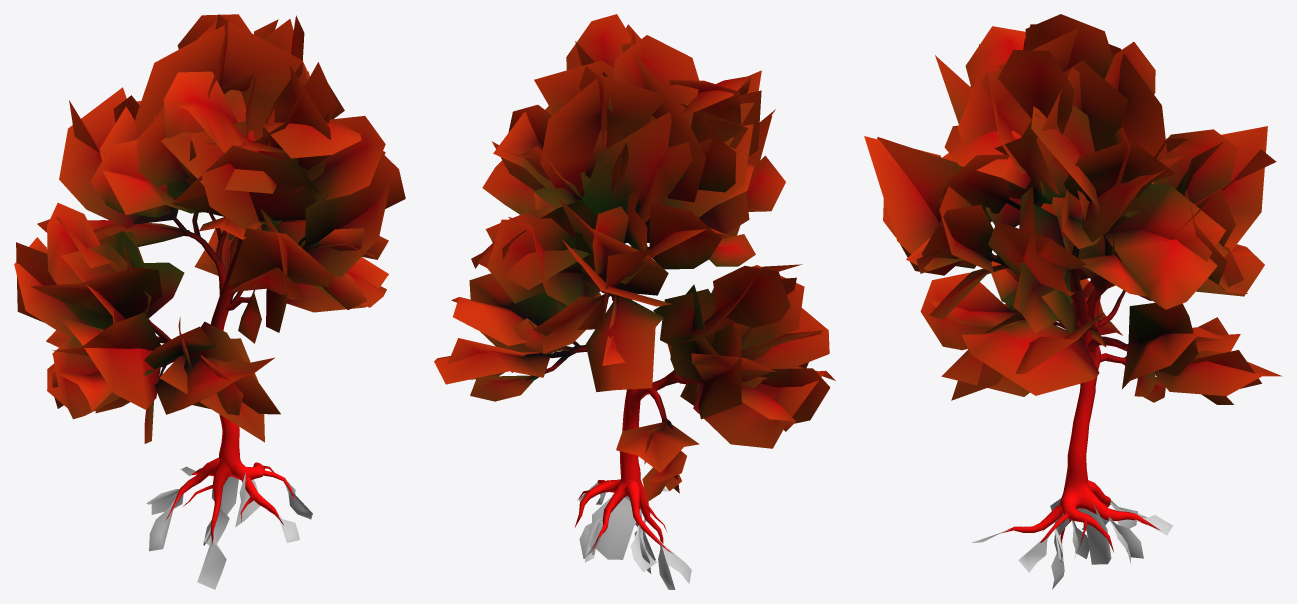
The model's file is ShrubTree_B.fbx.
3 views of the same model, side by side, from view 1: azimuth 30°, elevation 25°; view 2: azimuth 150°, elevation 25°; view 3: azimuth 270°, elevation 25° (orthographic). The views are drawn at different scales.
Visible parts, largest first — view 1: ShrubTree_B_Leaves_LOD0, ShrubTree_B_Bark_LOD0, ShrubTree_B_Roots_LOD0; view 2: ShrubTree_B_Leaves_LOD0, ShrubTree_B_Bark_LOD0, ShrubTree_B_Roots_LOD0; view 3: ShrubTree_B_Leaves_LOD0, ShrubTree_B_Bark_LOD0, ShrubTree_B_Roots_LOD0.
Part boxes in pixels (bbox=[...]): ShrubTree_B_Leaves_LOD0: bbox=[14, 14, 405, 443]; ShrubTree_B_Bark_LOD0: bbox=[106, 172, 328, 545]; ShrubTree_B_Roots_LOD0: bbox=[146, 466, 312, 589]; ShrubTree_B_Leaves_LOD0: bbox=[434, 14, 835, 501]; ShrubTree_B_Bark_LOD0: bbox=[524, 192, 707, 553]; ShrubTree_B_Roots_LOD0: bbox=[579, 482, 691, 589]; ShrubTree_B_Leaves_LOD0: bbox=[864, 14, 1281, 404]; ShrubTree_B_Bark_LOD0: bbox=[979, 201, 1160, 551]; ShrubTree_B_Roots_LOD0: bbox=[972, 498, 1173, 589].
Size of what is drawn, in the model's own units: 6.21 by 9.7 by 6.29.
